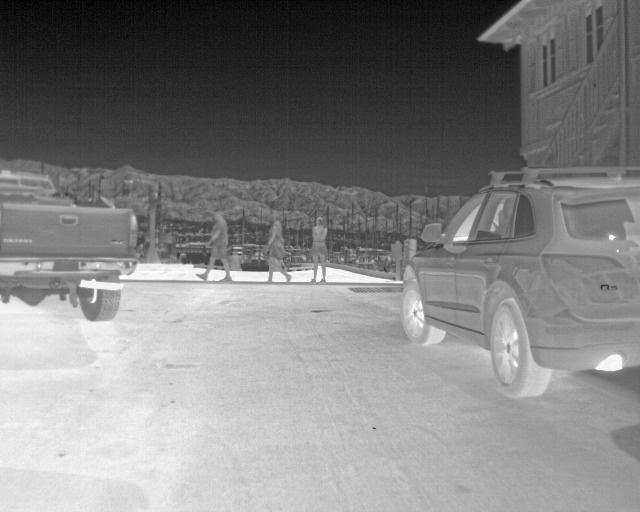bicycle: (398, 160, 638, 400), (1, 166, 137, 323)
empty: (194, 208, 233, 284), (261, 217, 296, 284), (307, 217, 331, 282)
